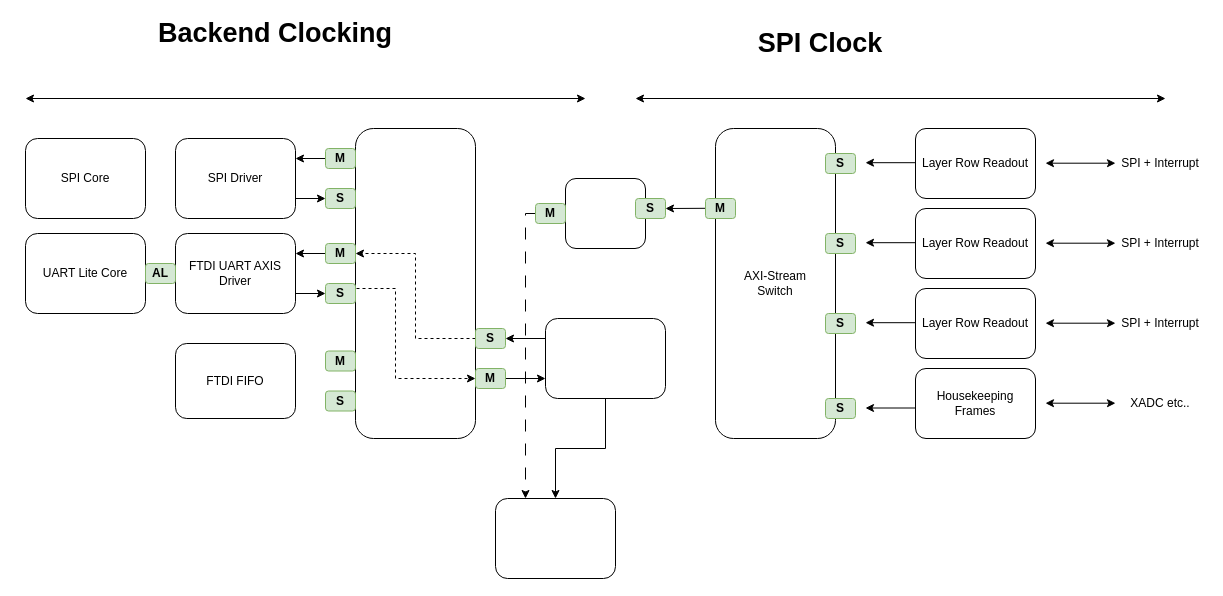
Image size: 1223x596. Some labels were removed from this diagram. Here are the shapes that lost their labels. From the top down, the centre of each, then its label:
At pixel 605 213: "AXI-Stream FIFO".
At pixel 415 283: "AXI-Stream Switch SW Interface".
At pixel 605 358: "Register File Decoder".
At pixel 555 538: "Register File Config Bits and readout".
